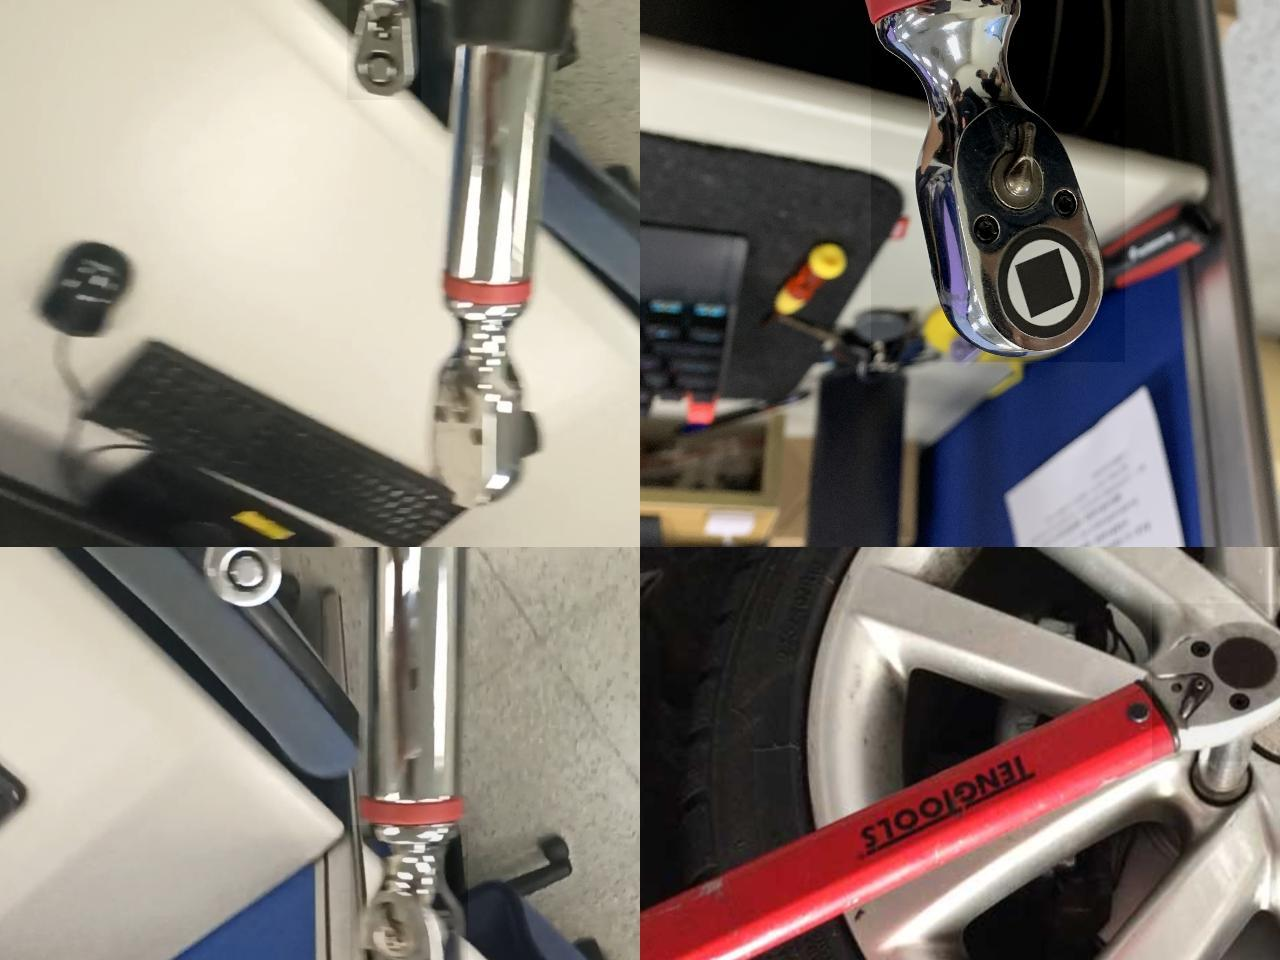Tool: (870, 0, 1124, 361), (1151, 603, 1280, 761), (349, 824, 467, 960), (345, 0, 420, 99), (199, 547, 284, 606)
